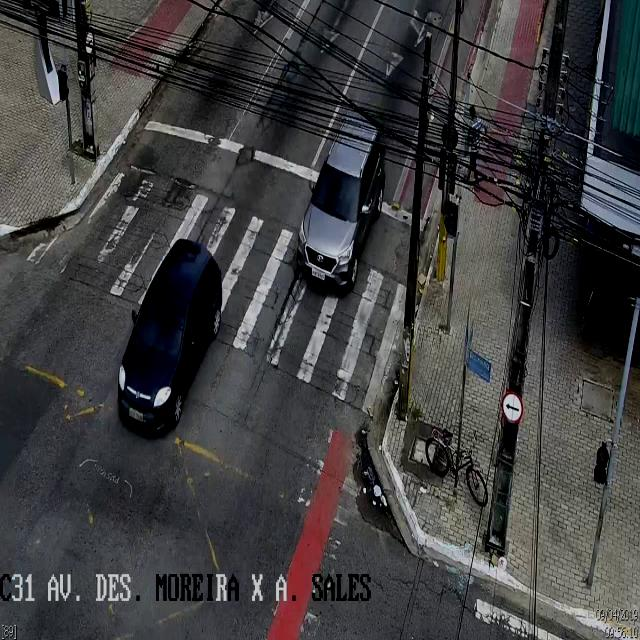Car: (116, 241, 221, 433), (296, 116, 386, 290)
